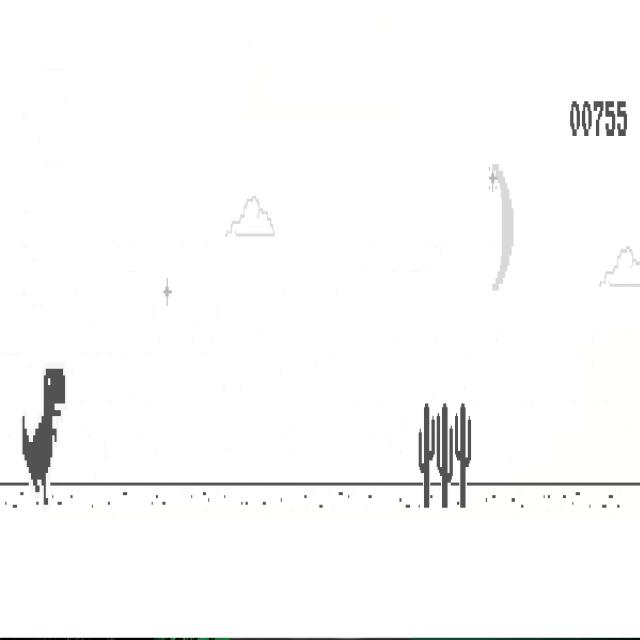cacto: (436, 402, 454, 509), (454, 402, 472, 509), (418, 402, 435, 509)
dino: (21, 368, 66, 507)
